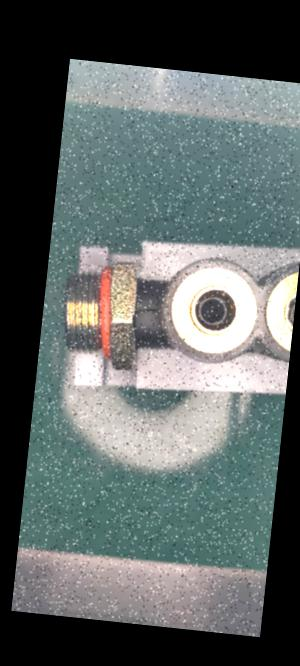craze: (134, 301, 156, 316)
